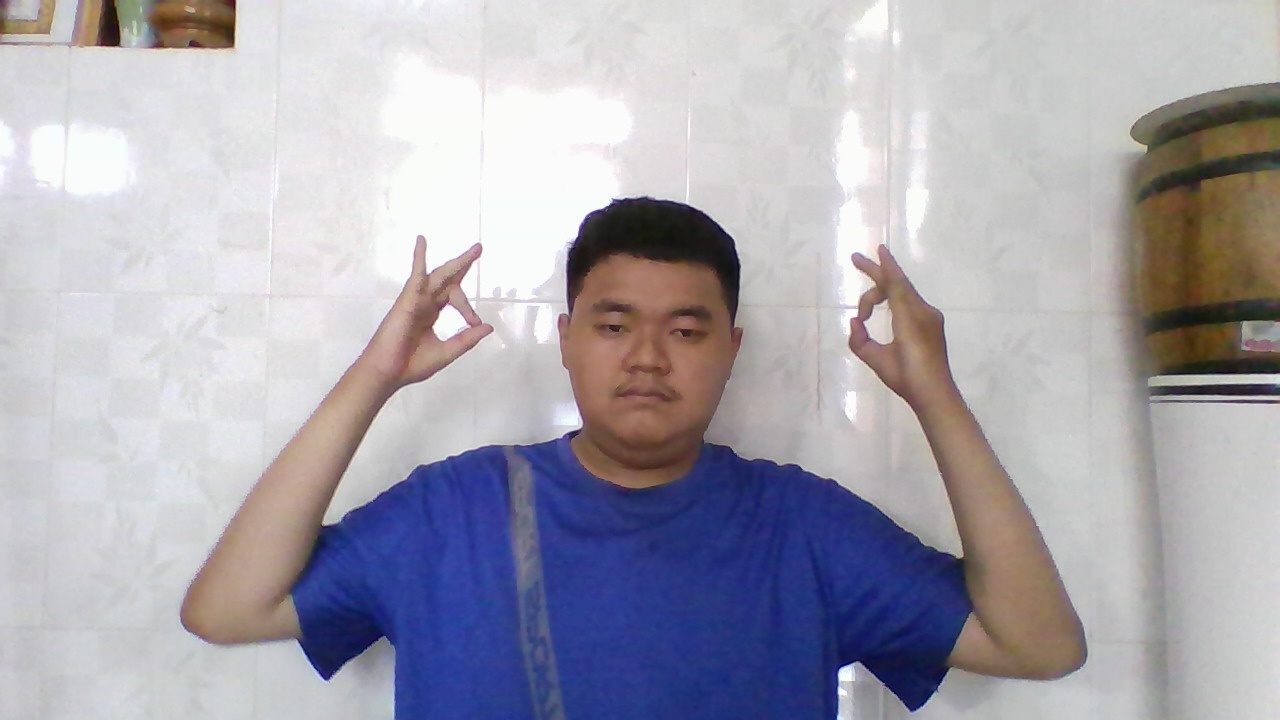H: (371, 222, 504, 393), (837, 239, 950, 416)
